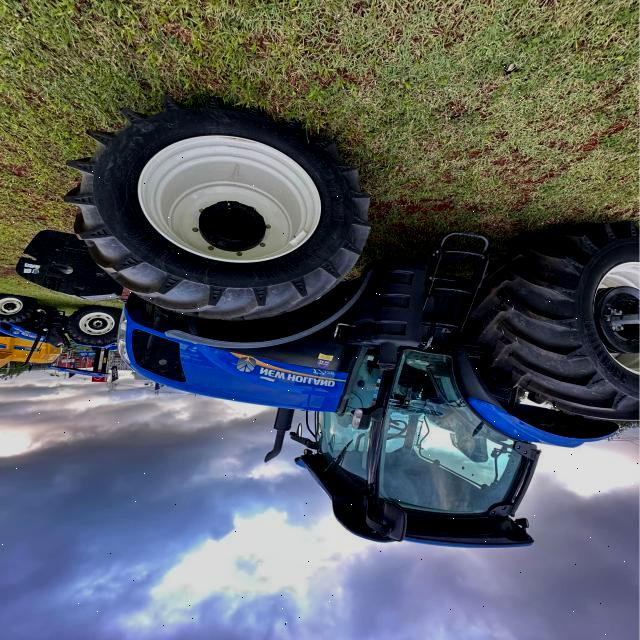Tratores - v5 YOLO V8L 2024-11-13: (31, 95, 640, 552), (0, 291, 116, 382)
